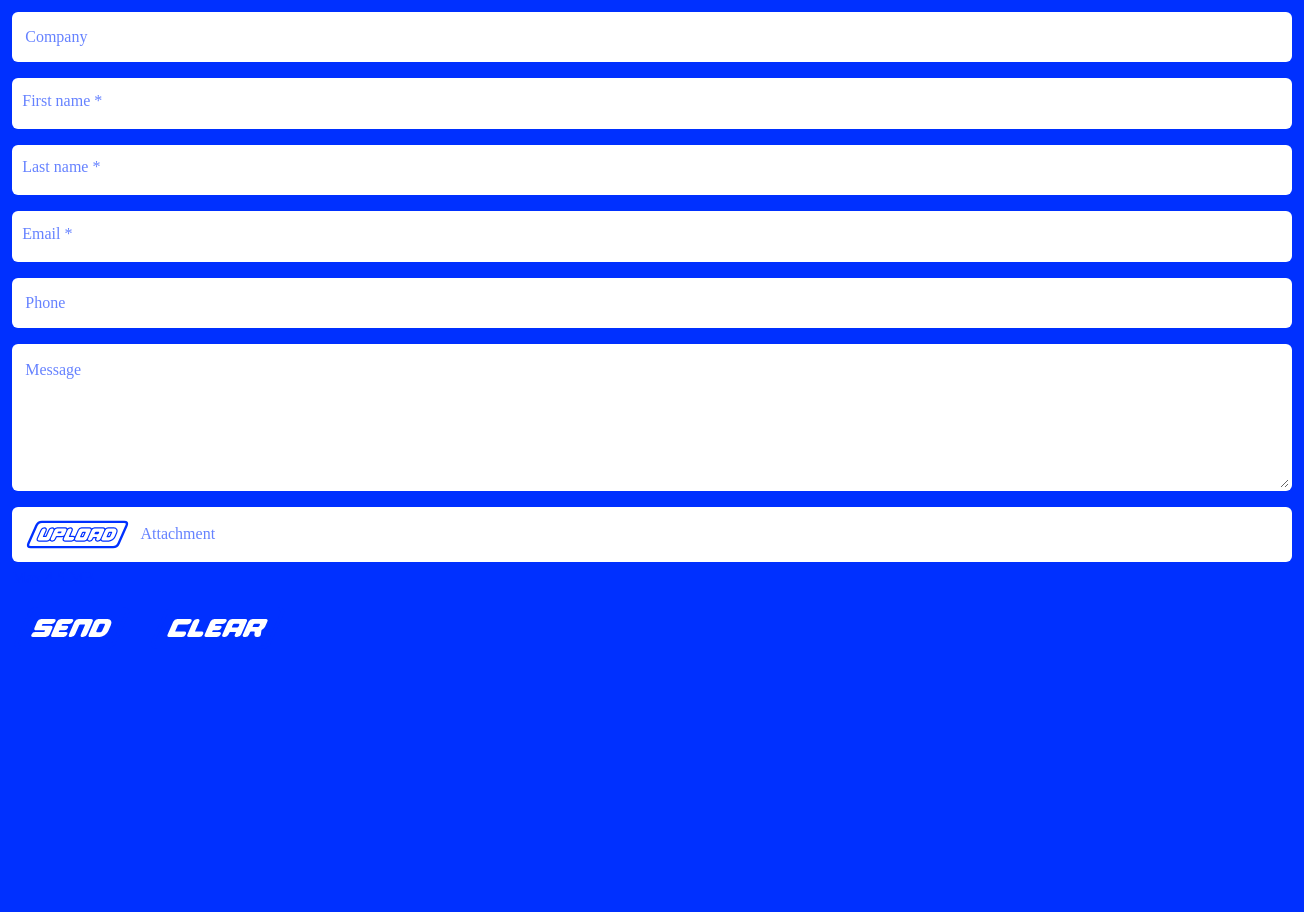
Given every required field is left empty › When the visitor submits › Then the first empty field's message is shown and no request is sent
Step 1. Click the 2nd button named "Send" → (72, 628), box [12, 606, 132, 650]
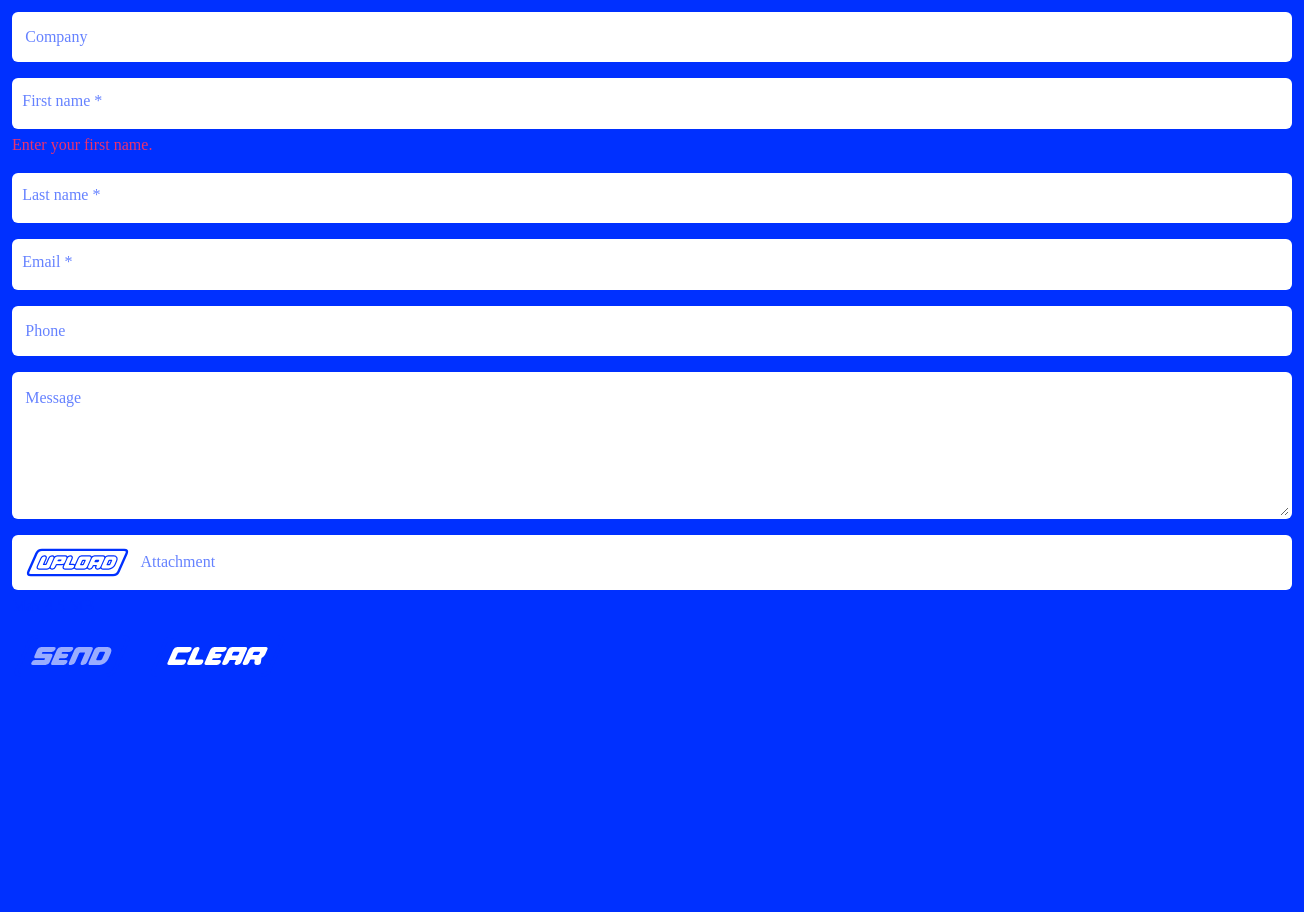
expect the text "Enter your first name." is shown: met, box [12, 136, 152, 153]
expect the 2nd button named "Send" is disabled: met, box [12, 634, 132, 678]
